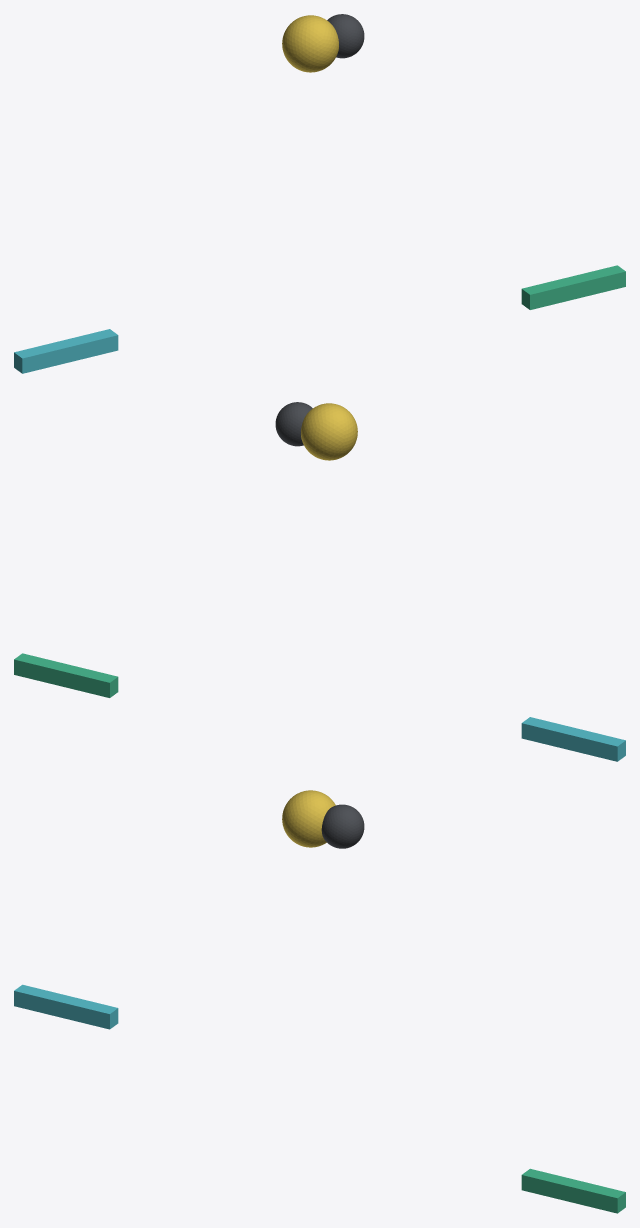
File: 06-estado-transicao.glb
3 views of the same model, one above another, from view 1: azimuth 30°, elevation 25°; view 2: azimuth 150°, elevation 25°; view 3: azimuth 330°, elevation 25° (orthographic).
Visible parts, largest first — view 1: world, transition_state, TS; view 2: world, transition_state, TS; view 3: world, transition_state, TS.
Part boxes in pixels (x1,y1,x2,y2): world: (14, 265, 625, 373); transition_state: (282, 15, 338, 72); TS: (327, 14, 364, 58); world: (14, 653, 625, 761); transition_state: (301, 403, 357, 460); TS: (275, 402, 312, 446); world: (14, 984, 625, 1213); transition_state: (282, 790, 335, 847); TS: (321, 804, 364, 848).
Bounding box in the file's own units: 5.35 × 2.89 × 0.44.
